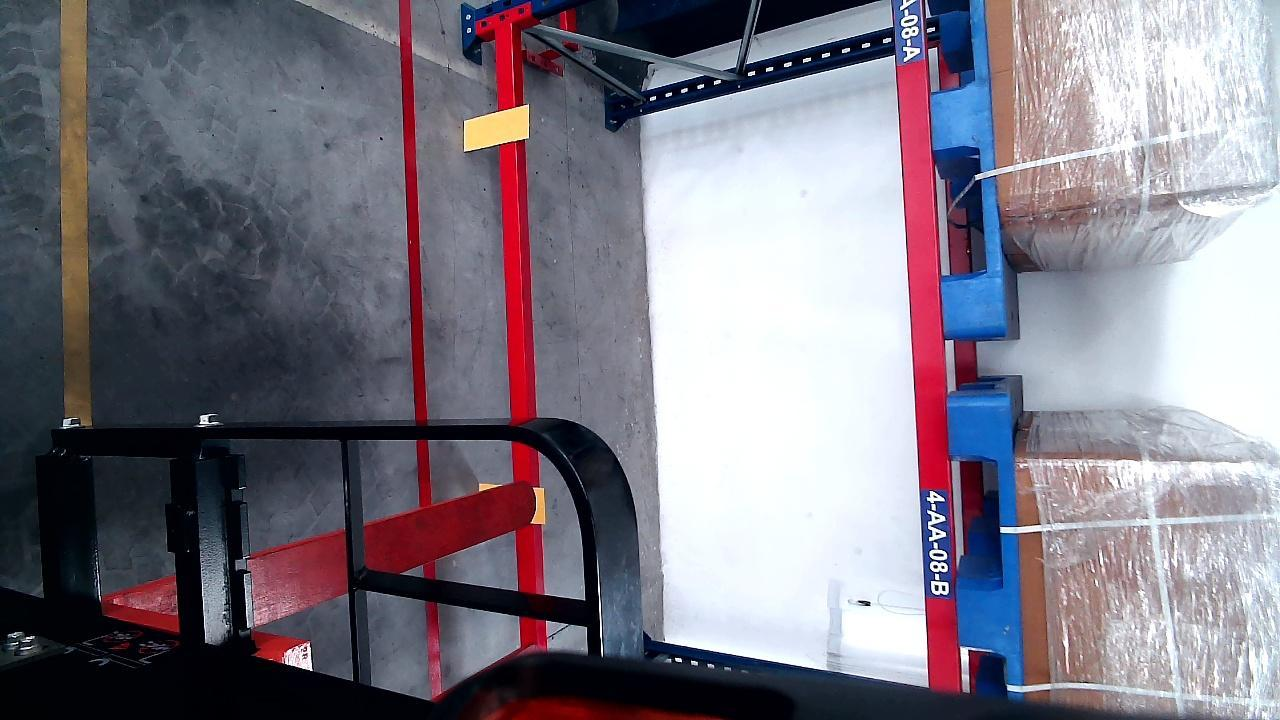red_line: (398, 0, 432, 514)
